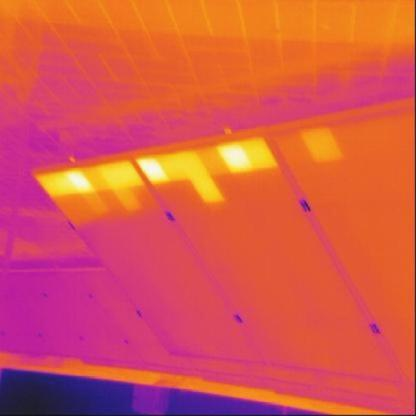anomaly: (135, 143, 285, 201), (33, 161, 146, 207), (296, 121, 346, 171)
